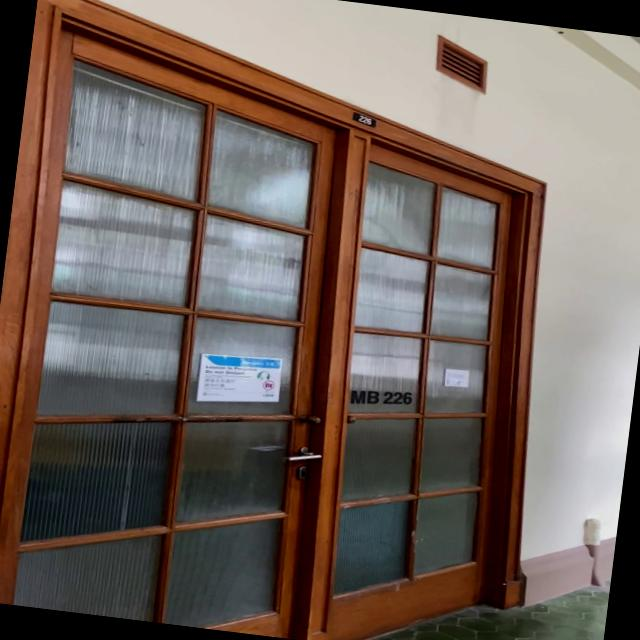room226: (346, 109, 378, 128)
room226Window: (350, 382, 414, 412)
